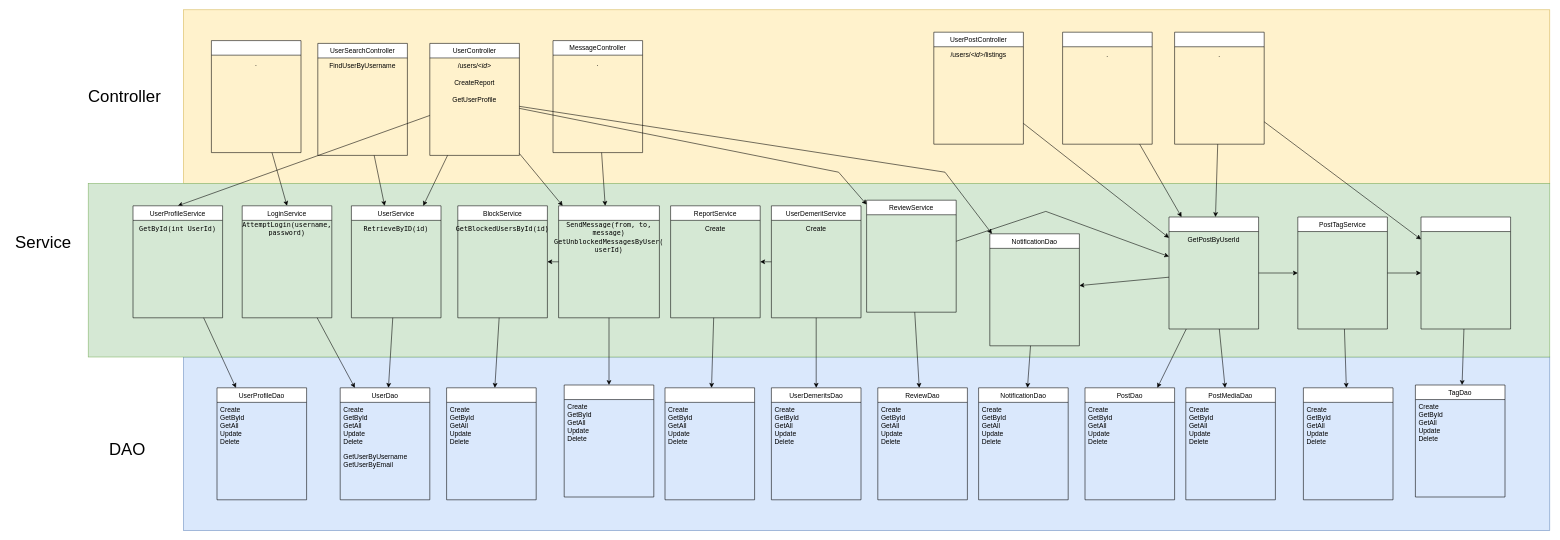
This 1560x540 diagram has some shape labels left out. The box of each missing label's shape, as (x1, y1, x2, y2) in pixels:
BlockDao: (446, 387, 536, 500)
LoginController: (211, 40, 301, 153)
MessageDao: (564, 384, 654, 497)
MessageService: (558, 205, 659, 318)
PostController: (1062, 32, 1152, 144)
PostService: (1168, 216, 1259, 329)
PostTagDao: (1303, 387, 1393, 500)
ReportDao: (664, 387, 755, 500)
SearchController: (1174, 32, 1264, 144)
TagService: (1420, 216, 1511, 329)
